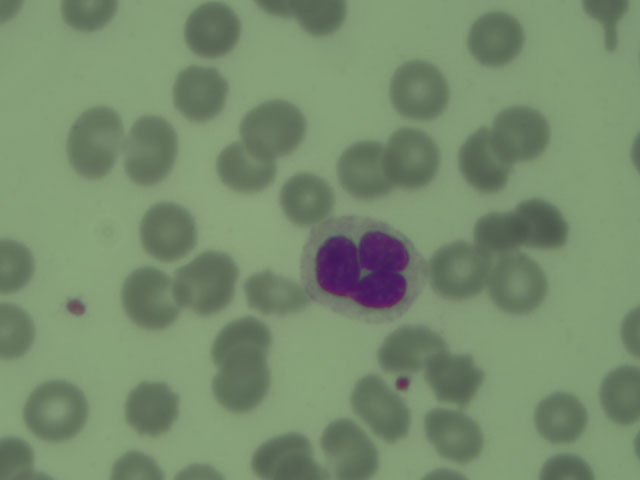Platelets: (59, 294, 92, 324), (393, 373, 416, 393)
RBC: (466, 13, 523, 68), (490, 257, 547, 312), (429, 244, 486, 299), (391, 62, 448, 117), (428, 410, 485, 465), (389, 325, 446, 380), (355, 383, 412, 438), (320, 422, 377, 477), (381, 128, 438, 183), (334, 139, 391, 194), (275, 173, 332, 228), (213, 353, 270, 408), (210, 316, 267, 371), (247, 265, 304, 320), (180, 253, 237, 308), (121, 268, 178, 323), (124, 380, 181, 435), (25, 383, 82, 438), (138, 204, 195, 259), (217, 137, 274, 192), (243, 99, 300, 154), (125, 122, 182, 177), (65, 112, 122, 167), (174, 63, 231, 118), (494, 103, 551, 158), (515, 196, 572, 251), (532, 387, 589, 442), (459, 129, 508, 192), (254, 425, 311, 479), (574, 1, 631, 55), (185, 1, 242, 55), (598, 365, 640, 430), (1, 300, 38, 365), (1, 236, 39, 299), (103, 443, 168, 479), (294, 1, 350, 40), (434, 352, 482, 397), (474, 211, 522, 254), (60, 1, 119, 31), (612, 298, 640, 361), (534, 453, 597, 480), (1, 433, 35, 479)
WBC: (305, 214, 424, 323)
